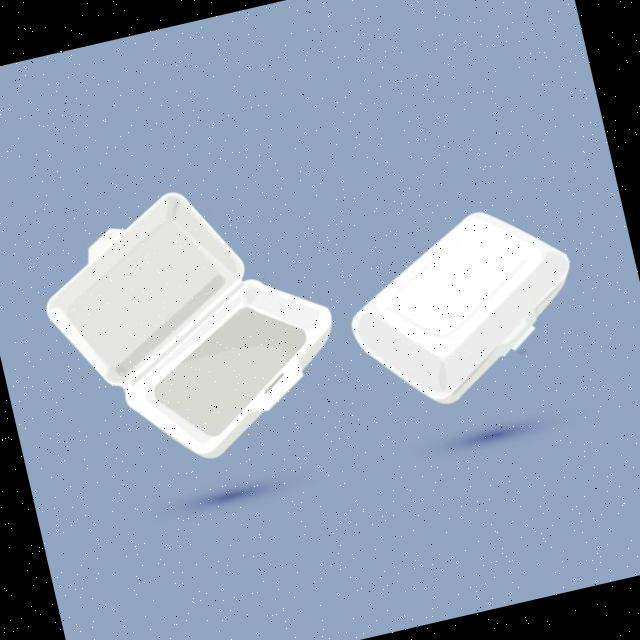styrofoam: (24, 160, 356, 488), (330, 190, 595, 422)
